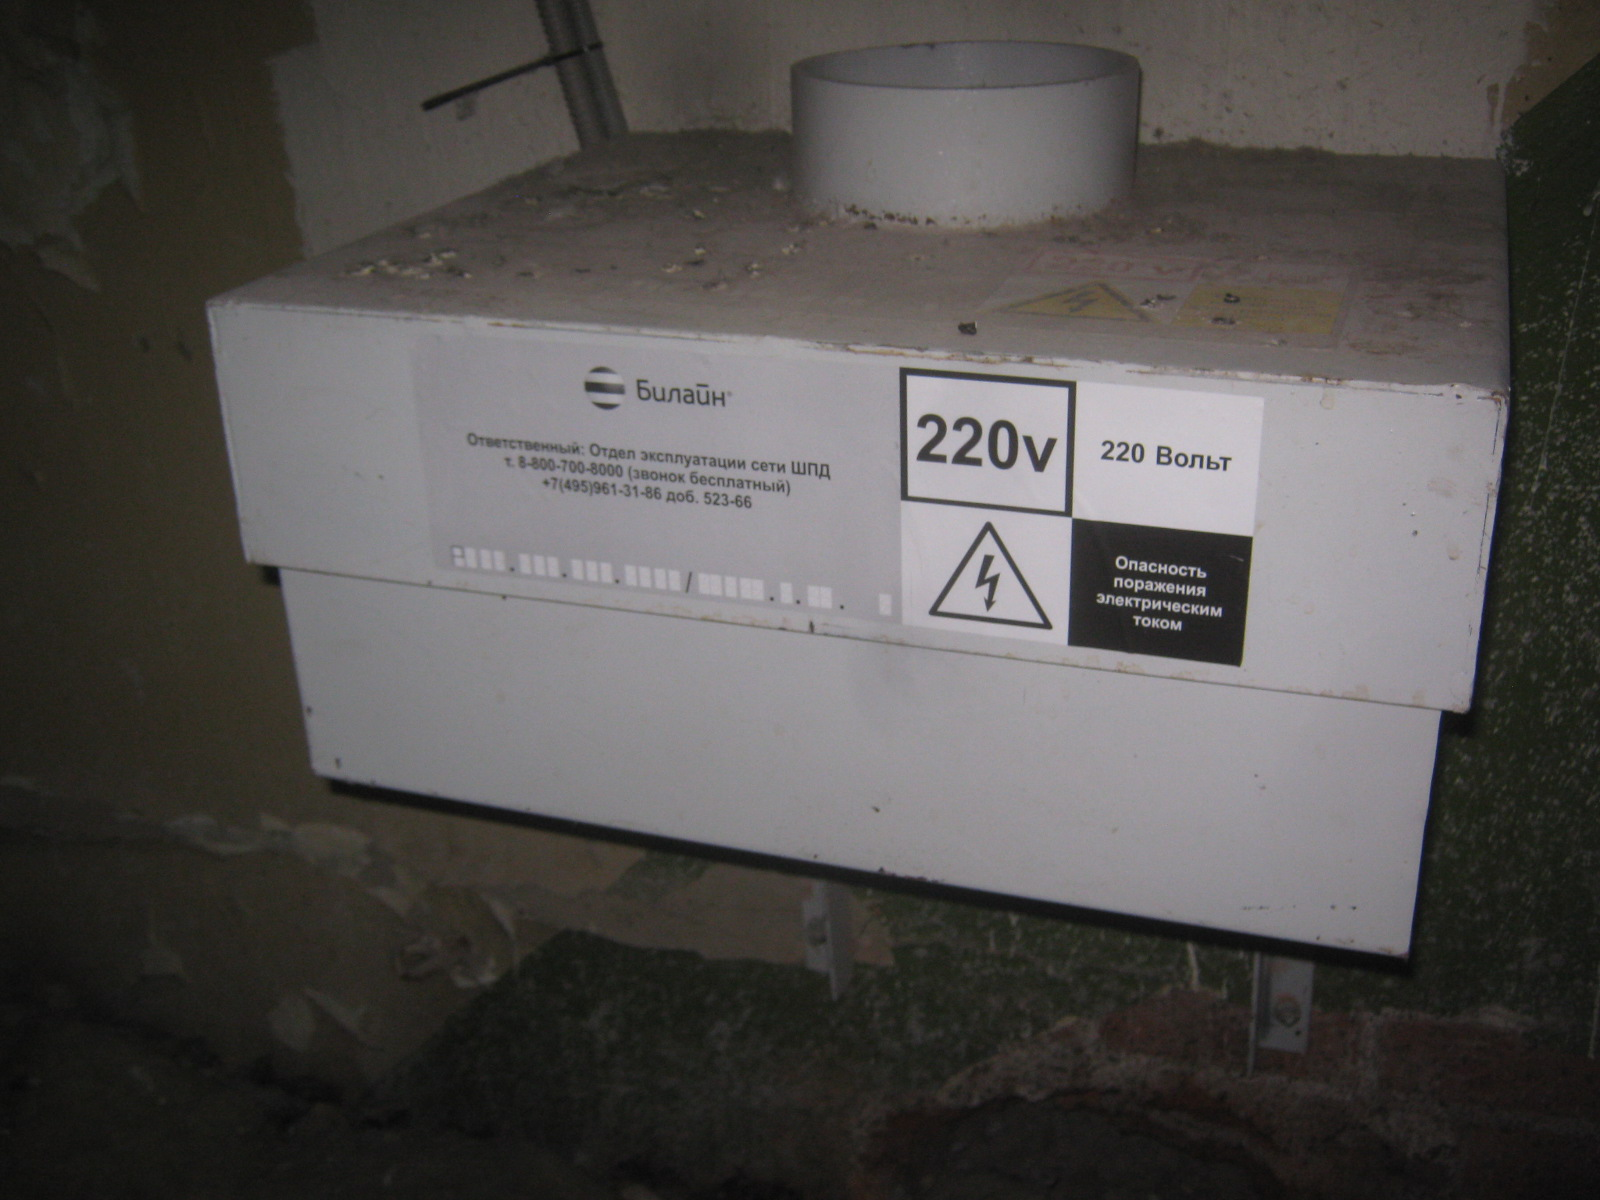shta-ps: (197, 32, 1528, 964)
